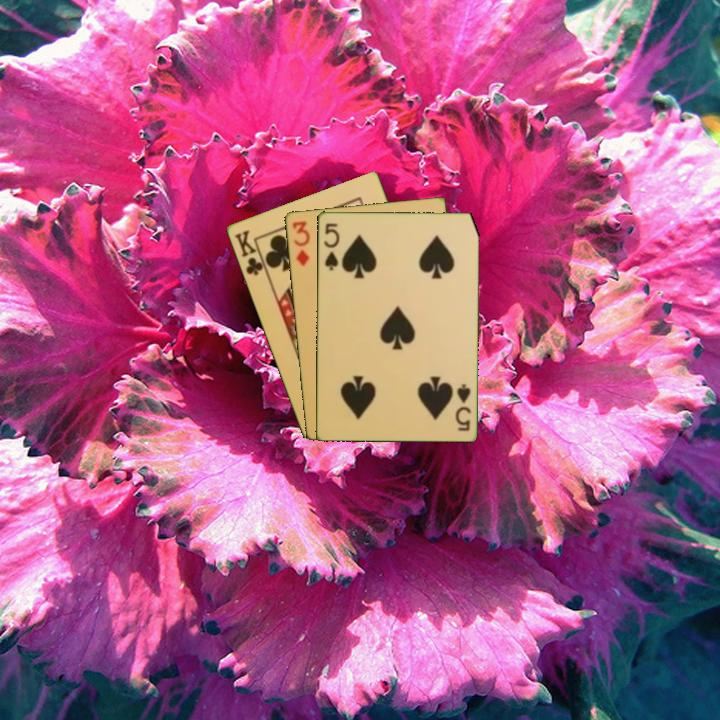3d: (288, 217, 312, 268)
5s: (320, 220, 342, 273), (452, 381, 474, 433)
Kc: (230, 227, 270, 278)
